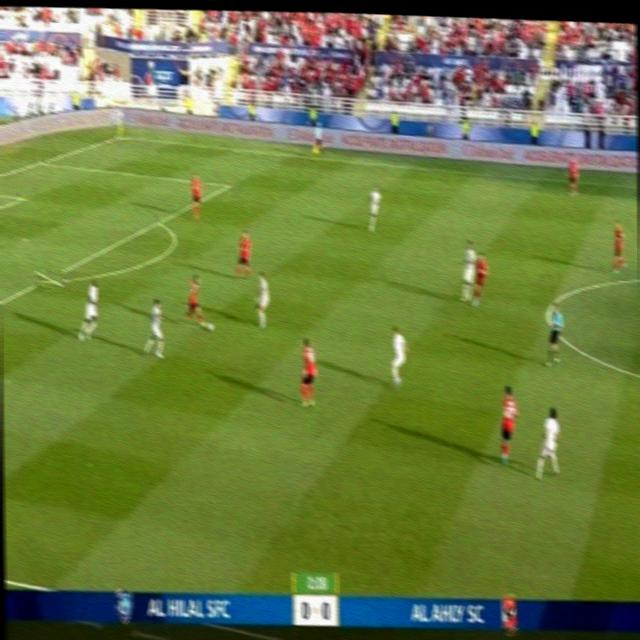bigarea_top_inner: (222, 178, 231, 192)
bigarea_top_outter: (36, 156, 46, 165)
bottom_arc_area_intersection: (34, 268, 62, 291)
corner: (114, 130, 126, 137)
smallarea_top_inner: (17, 193, 24, 201)
top_arc_area_intersection: (154, 215, 162, 227)
